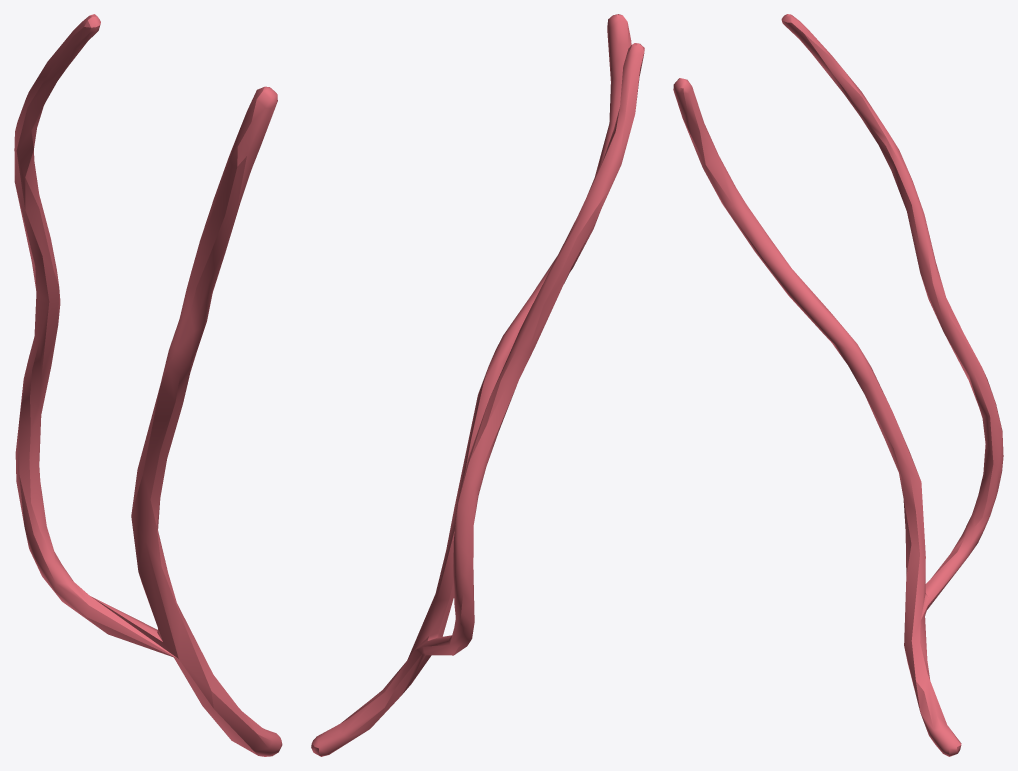
Rendered from fma51637_fj5033.glb.
3 views of the same model, side by side, from view 1: azimuth 30°, elevation 25°; view 2: azimuth 150°, elevation 25°; view 3: azimuth 270°, elevation 25° (orthographic). The views are drawn at different scales.
Visible parts, largest first — view 1: FMA51637_FJ5033; view 2: FMA51637_FJ5033; view 3: FMA51637_FJ5033.
Boxes of the visible parts, bbox=[...] form: FMA51637_FJ5033: bbox=[14, 14, 282, 756]; FMA51637_FJ5033: bbox=[311, 14, 644, 756]; FMA51637_FJ5033: bbox=[673, 14, 1003, 756].
Bounding box in the file's own units: 0.0129 × 0.0341 × 0.0159.
